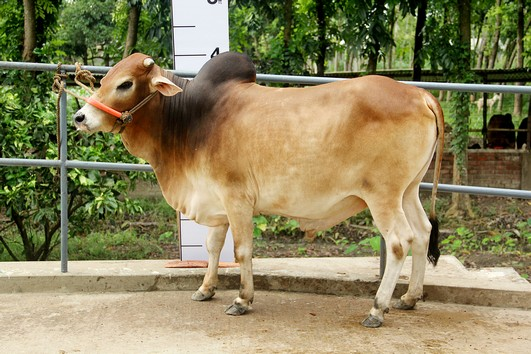cow: (68, 43, 453, 330)
